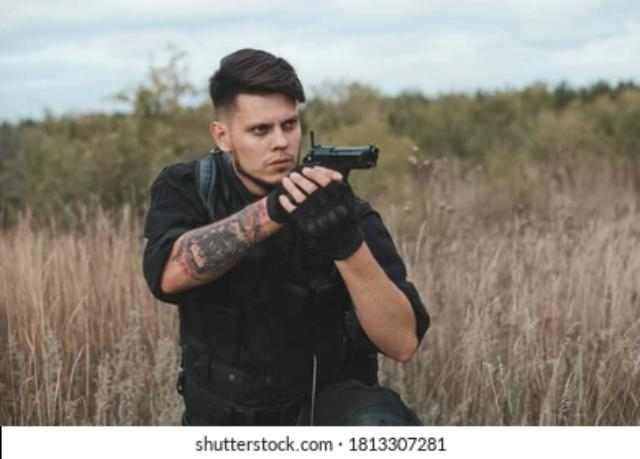other: (143, 39, 425, 420)
